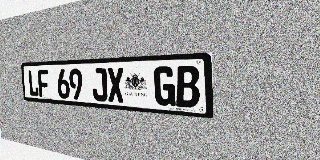6: (56, 69, 70, 99)
9: (69, 68, 83, 100)
B: (176, 65, 200, 108)
F: (37, 69, 50, 97)
G: (154, 66, 176, 107)
J: (91, 68, 108, 102)
L: (28, 70, 39, 97)
X: (107, 67, 124, 103)
